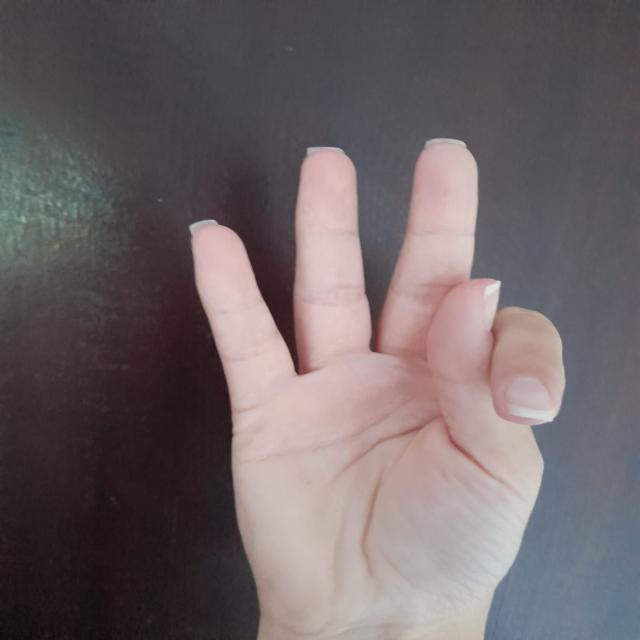T: (180, 129, 587, 588)
